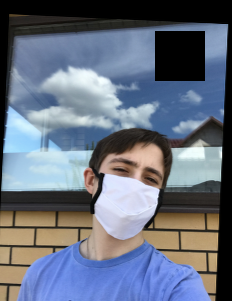with_mask: (90, 147, 164, 241)
